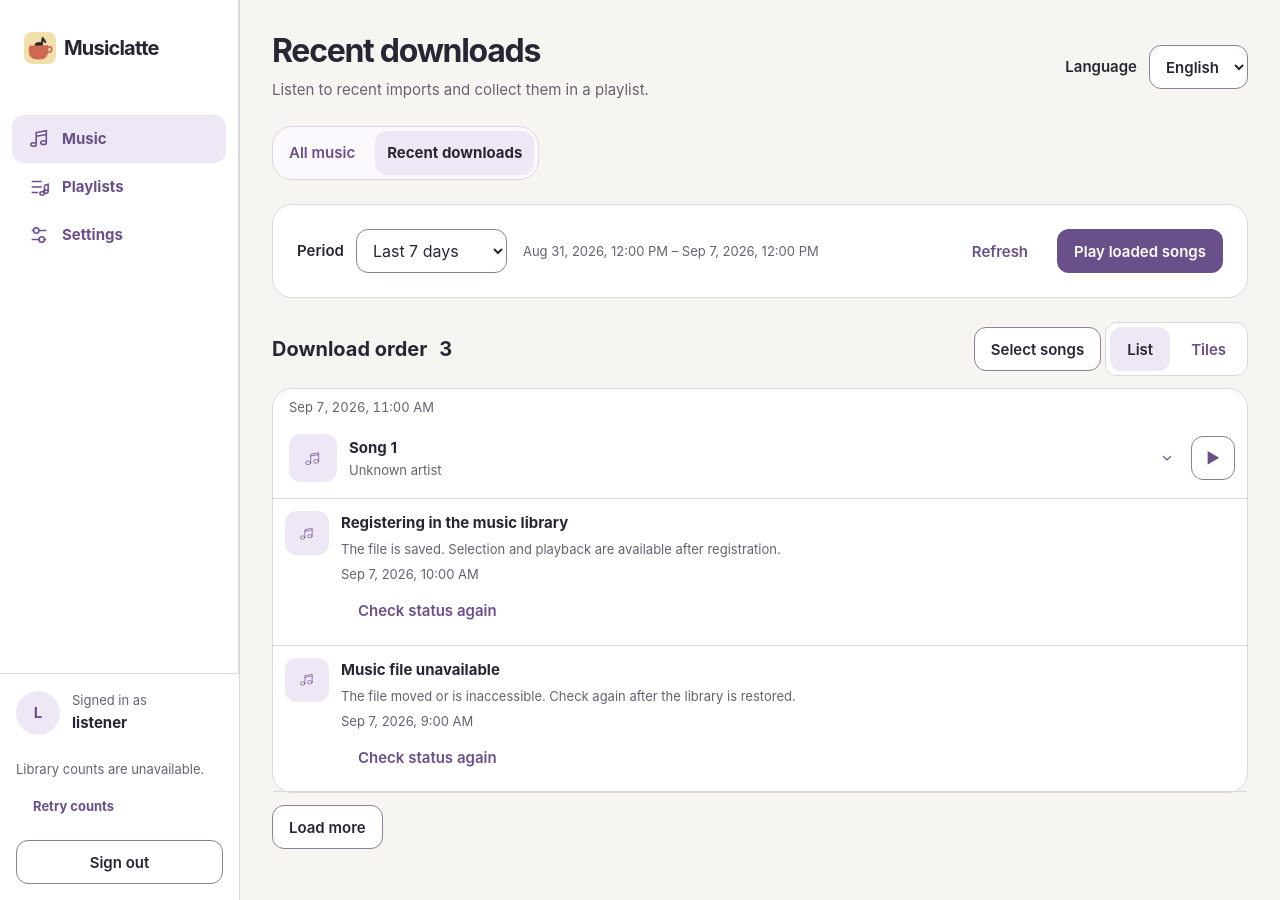
Scenario: recent route › should keep load-more focus after the final page
expect the text "Song 1" is shown: met, box [349, 438, 397, 457]
Step 1. Click the button "Load more" → (327, 827), box [272, 805, 383, 849]
(page scrolled)
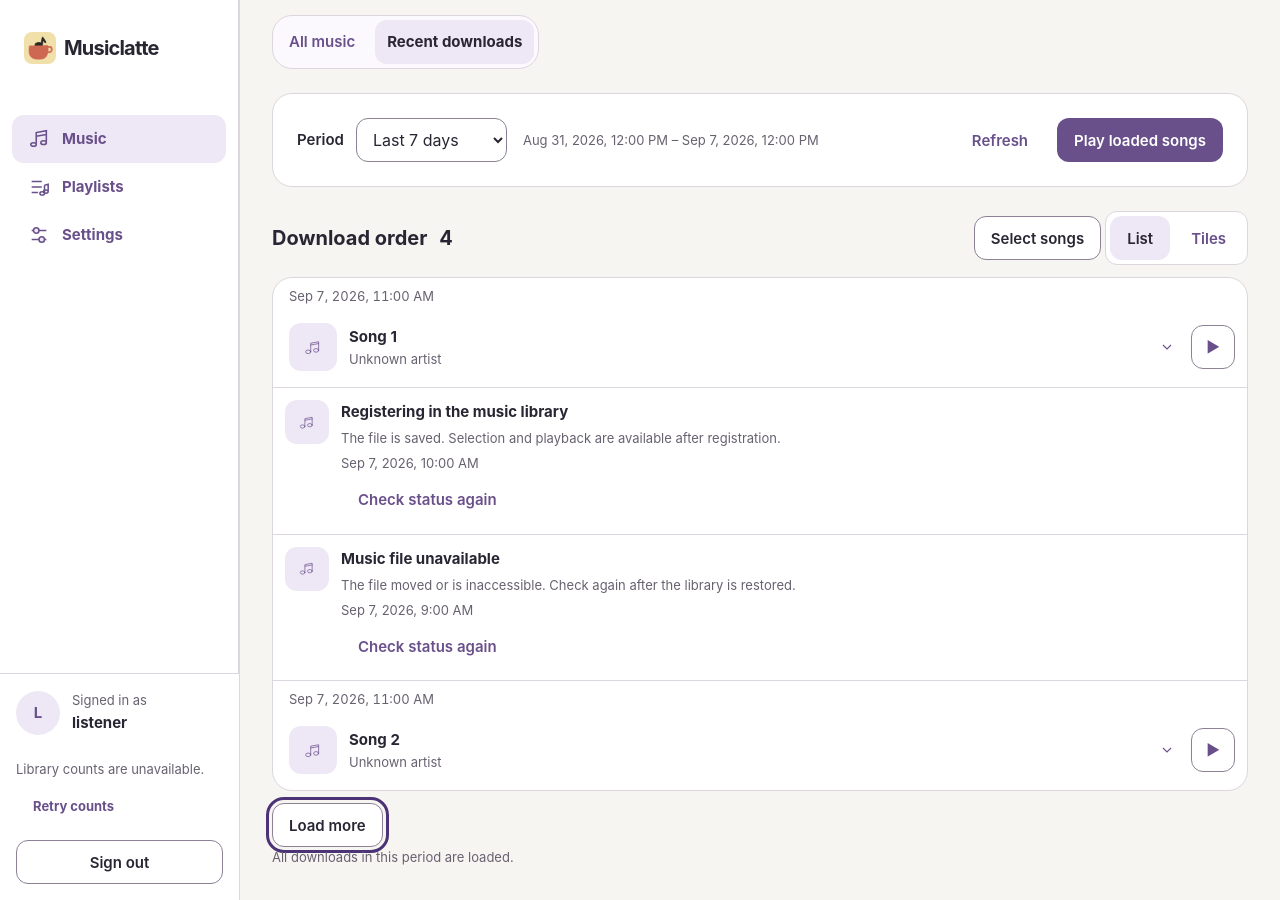
expect the text "Song 2" is shown: met, box [349, 730, 400, 749]
